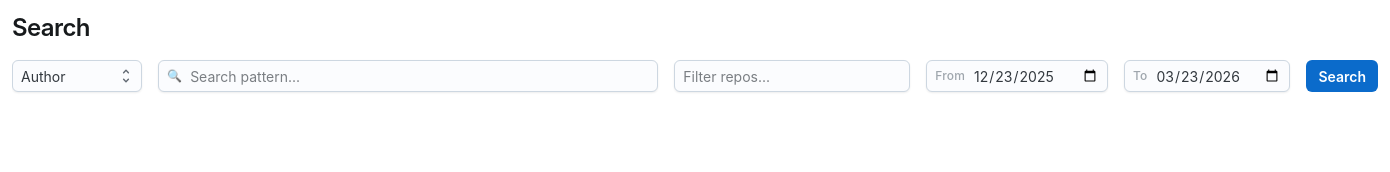
Scenario: SearchPage › displays search progress when searching
This screenshot has width=1390, height=172.
Step 1. Type "test" into the field with placeholder "Search pattern..." → [420, 76], box [190,61,649,91]
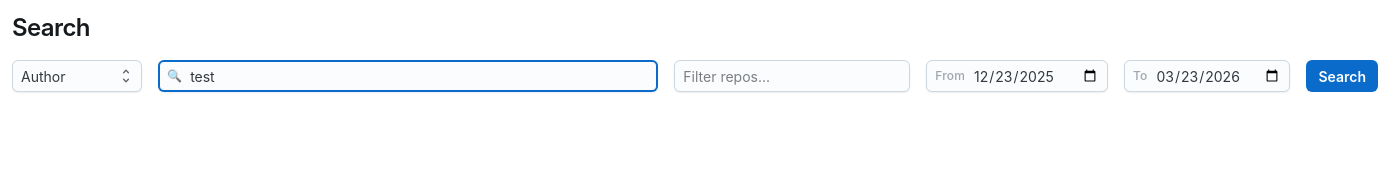
Step 2. Click the button "Search" → [1342, 76], box [1306,60,1378,92]
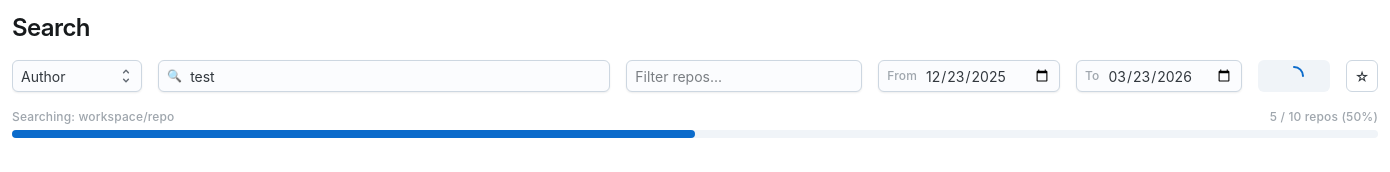
Now the text "5 / 10 repos (50%)" is shown, box [1270,108,1378,126]
